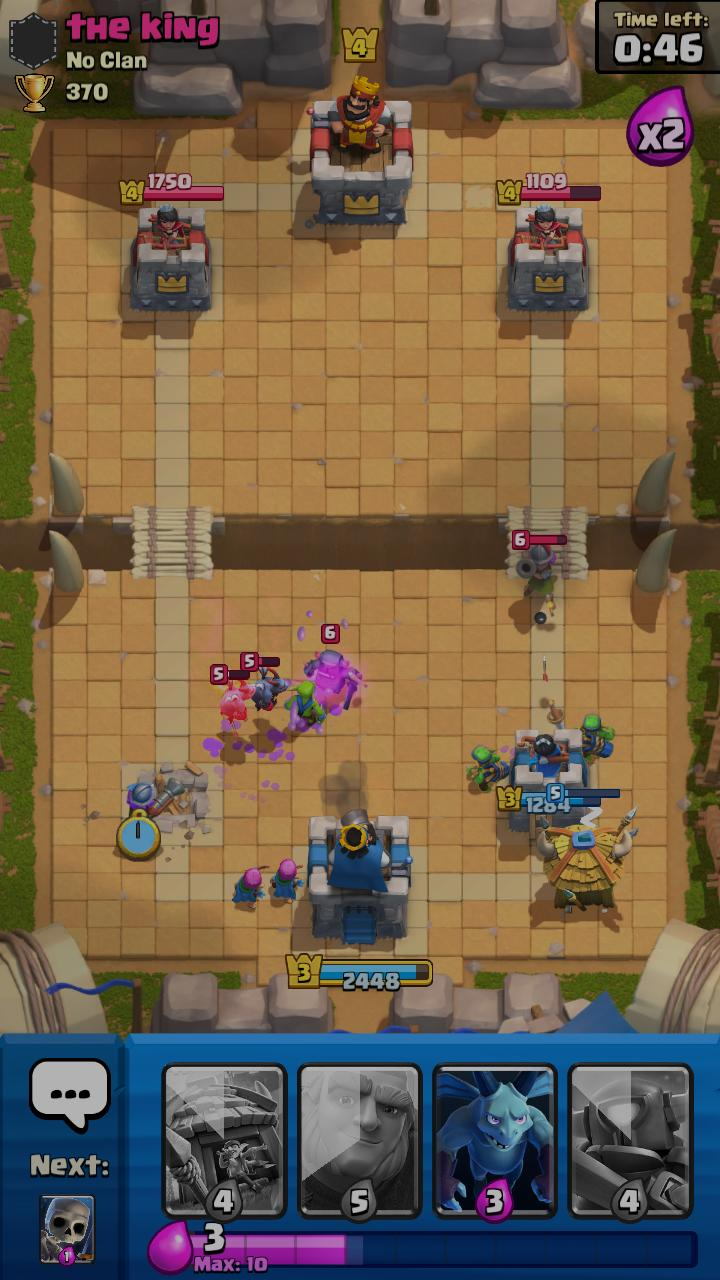ally: (536, 782, 639, 914), (126, 777, 185, 820), (466, 745, 510, 792), (574, 713, 616, 762), (283, 681, 326, 726), (232, 865, 270, 909), (270, 858, 305, 903)
enemy: (303, 624, 362, 711), (512, 530, 567, 610), (240, 651, 288, 711), (210, 664, 256, 724)
